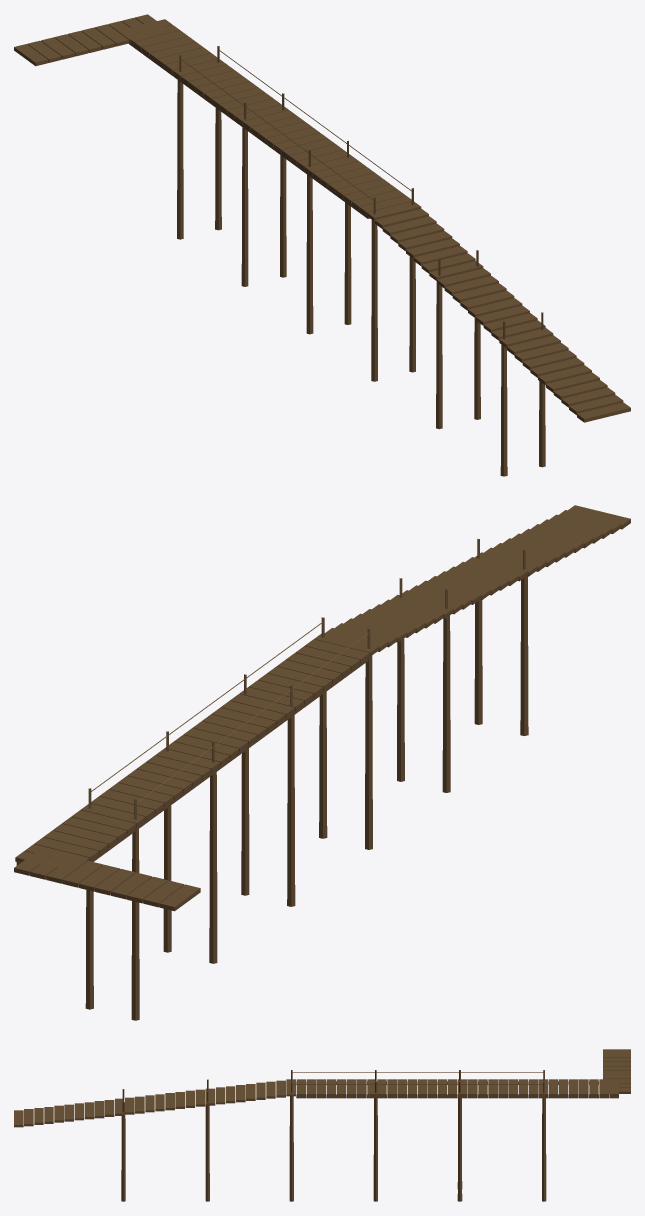
File: jetty.glb
3 renders of one model, top to bottom at view 1: azimuth 30°, elevation 25°; view 2: azimuth 150°, elevation 25°; view 3: azimuth 270°, elevation 25°, orthographic. The views are drawn at different scales.
Size of the model in its own units: 7.59 by 9.35 by 44.02.
